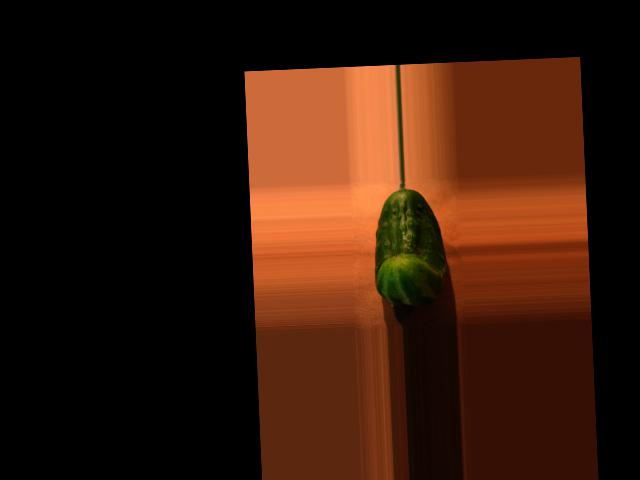cucumber: (370, 187, 447, 307)
